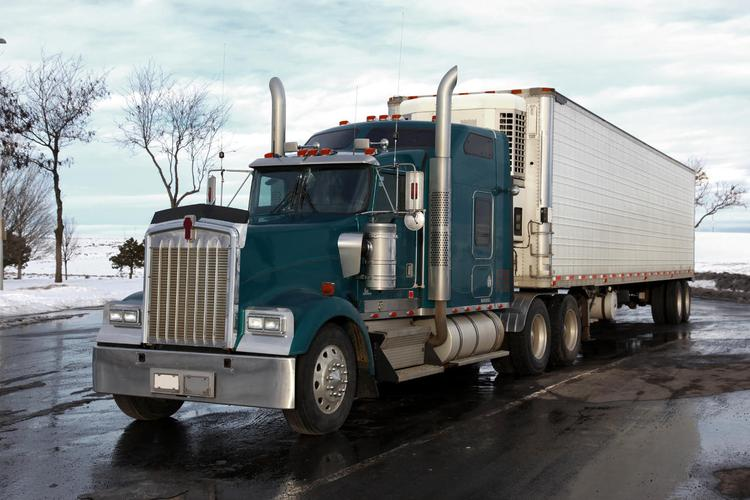卡车: (90, 72, 717, 435)
